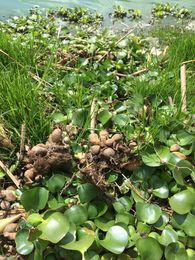water_hyacinth: (15, 181, 195, 260)
